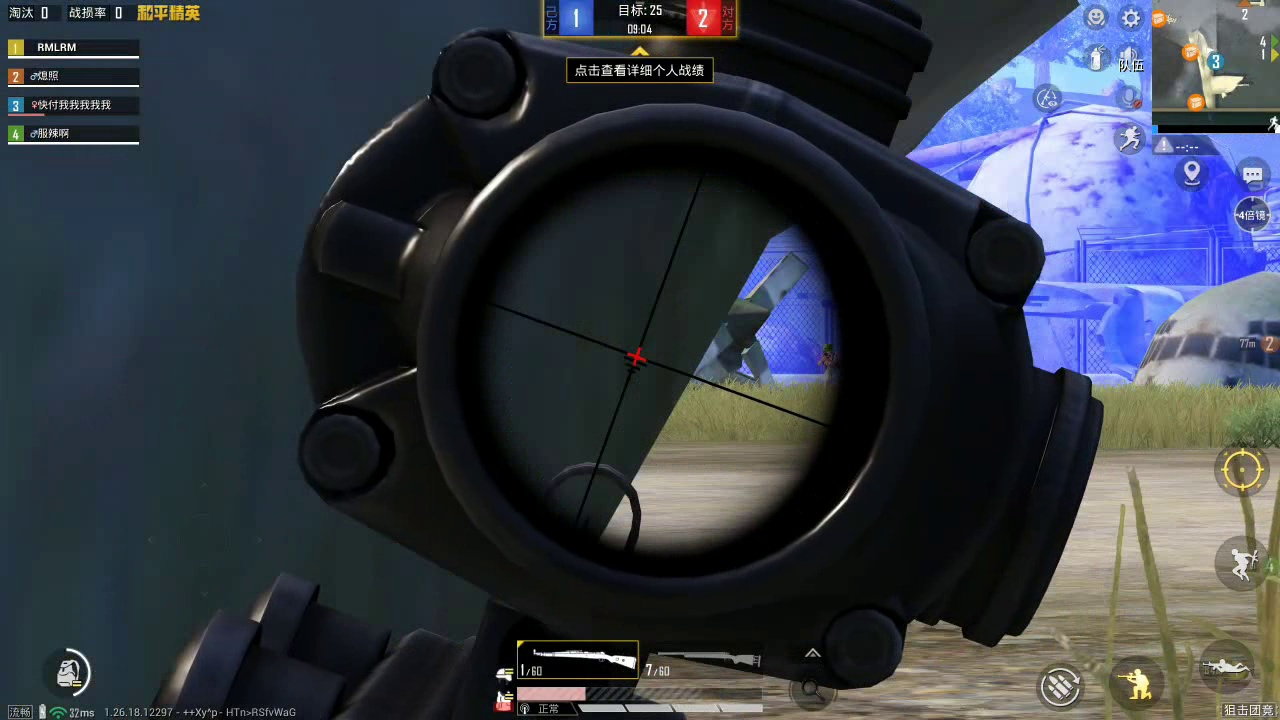enemy: (816, 335, 839, 379)
